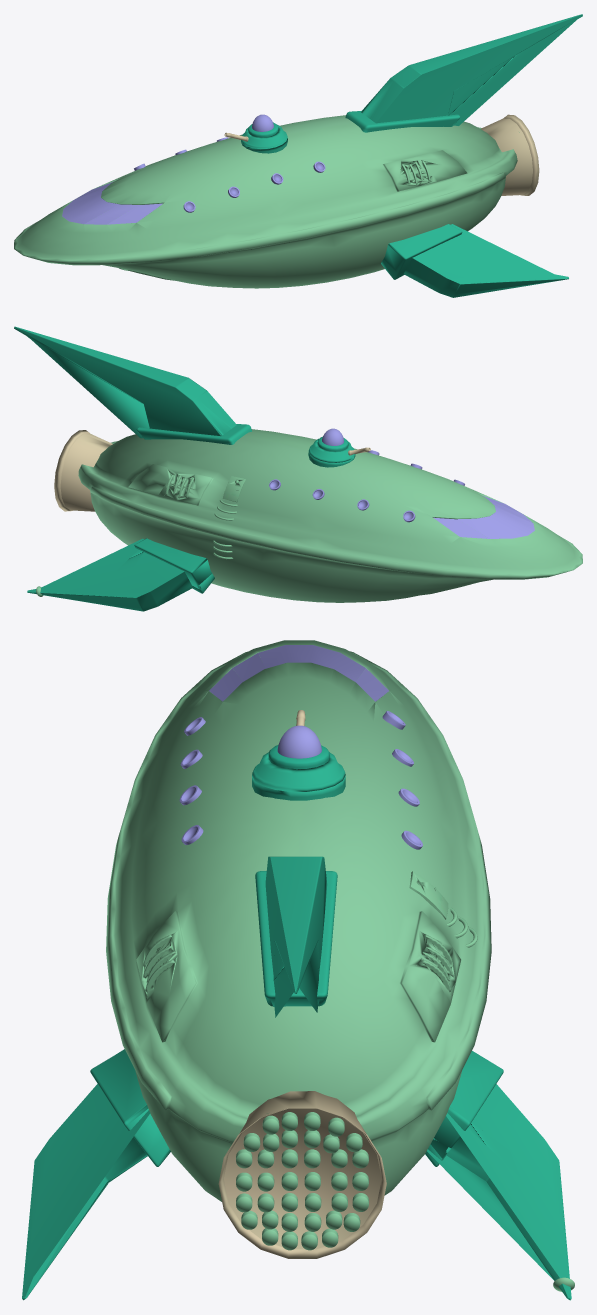
Rendered from NaveFuturama.obj.
3 views of the same model, one above another, from view 1: azimuth 30°, elevation 25°; view 2: azimuth 150°, elevation 25°; view 3: azimuth 270°, elevation 25° (orthographic). The views are drawn at different scales.
Parts seen in each view (by area): view 1: Sphere003, Object001, Object003, Cylinder036, spaceship_front_mirror, Cylinder092; view 2: Sphere003, Object001, Object002, Cylinder036, spaceship_front_mirror, Cylinder092, Box247; view 3: Sphere003, Object002, Object003, Cylinder036, Object001, spaceship_front_mirror, Cylinder092, Sphere007.
Part boxes in pixels (left/top/right/bottom): Sphere003: left=14, top=115, right=517, bottom=288; Object001: left=345, top=14, right=582, bottom=132; Object003: left=381, top=224, right=568, bottom=297; Cylinder036: left=481, top=114, right=539, bottom=195; spaceship_front_mirror: left=62, top=181, right=162, bottom=224; Cylinder092: left=241, top=125, right=287, bottom=153; Sphere003: left=78, top=429, right=582, bottom=602; Object001: left=14, top=326, right=251, bottom=444; Object002: left=27, top=538, right=214, bottom=611; Cylinder036: left=54, top=430, right=112, bottom=511; spaceship_front_mirror: left=433, top=496, right=534, bottom=538; Cylinder092: left=308, top=438, right=355, bottom=467; Box247: left=222, top=476, right=245, bottom=502; Sphere003: left=106, top=640, right=491, bottom=1201; Object002: left=425, top=1051, right=571, bottom=1300; Object003: left=22, top=1049, right=170, bottom=1300; Cylinder036: left=218, top=1091, right=386, bottom=1258; Object001: left=255, top=856, right=337, bottom=1017; spaceship_front_mirror: left=209, top=645, right=388, bottom=701; Cylinder092: left=252, top=752, right=345, bottom=800; Sphere007: left=277, top=725, right=321, bottom=758.
Bounding box in the file's own units: 61.52 × 20.57 × 26.16.
